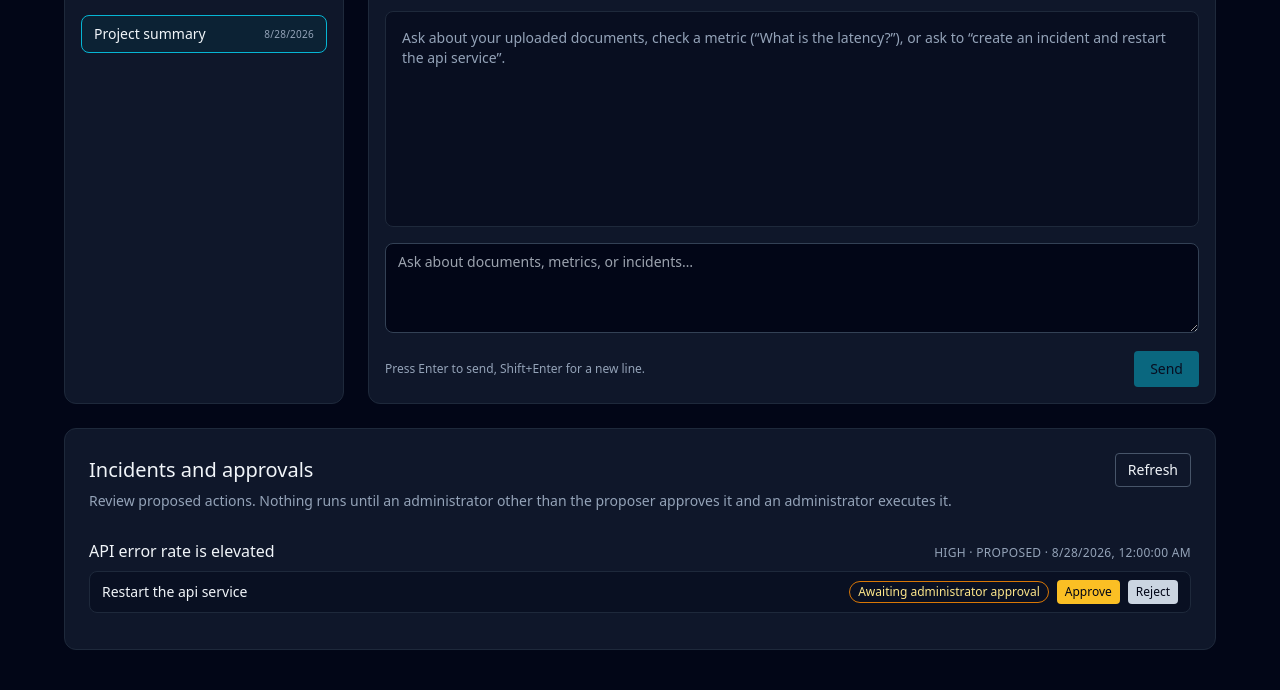
Test: HomePage › lets an administrator approve and execute another user's proposal
The image size is (1280, 690).
(page scrolled)
expect the text "Awaiting administrator approval" is shown: met, box [849, 581, 1049, 603]
Click the button "Approve": (1088, 592) [1057, 580, 1120, 604]
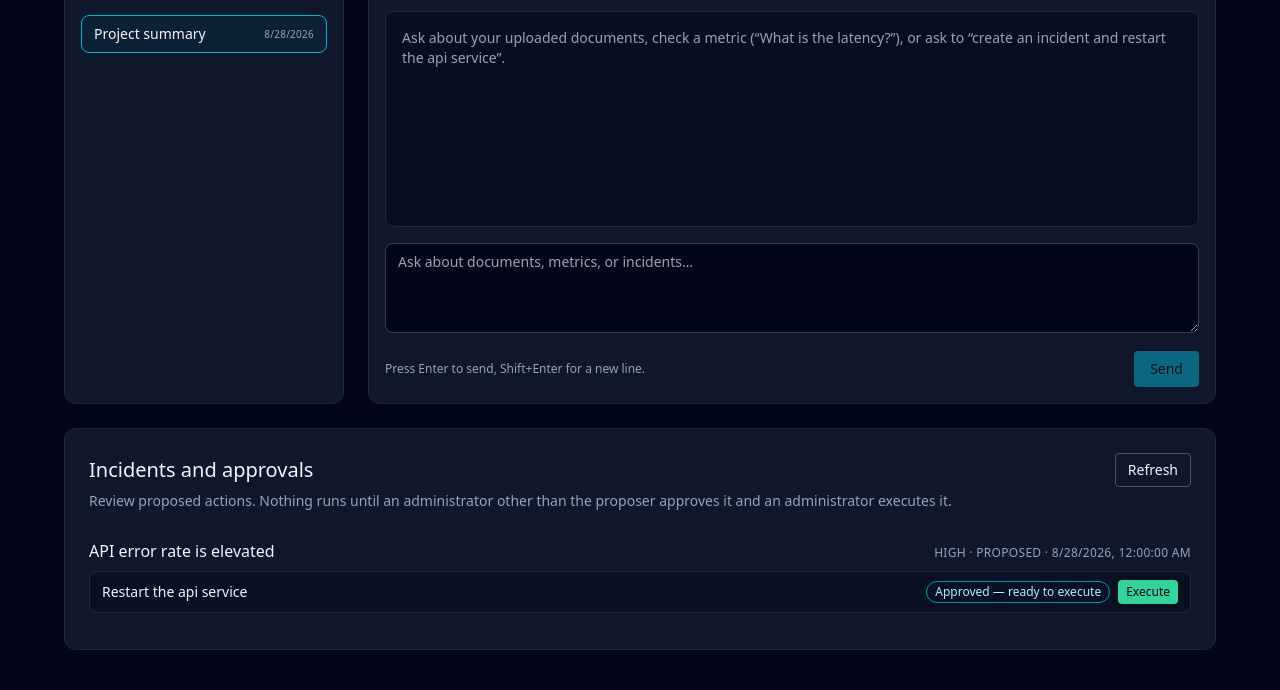
expect the text "Approved — ready to execute" is shown: met, box [926, 581, 1110, 603]
Click the button "Execute": (1148, 592) [1118, 580, 1178, 604]
(page scrolled)
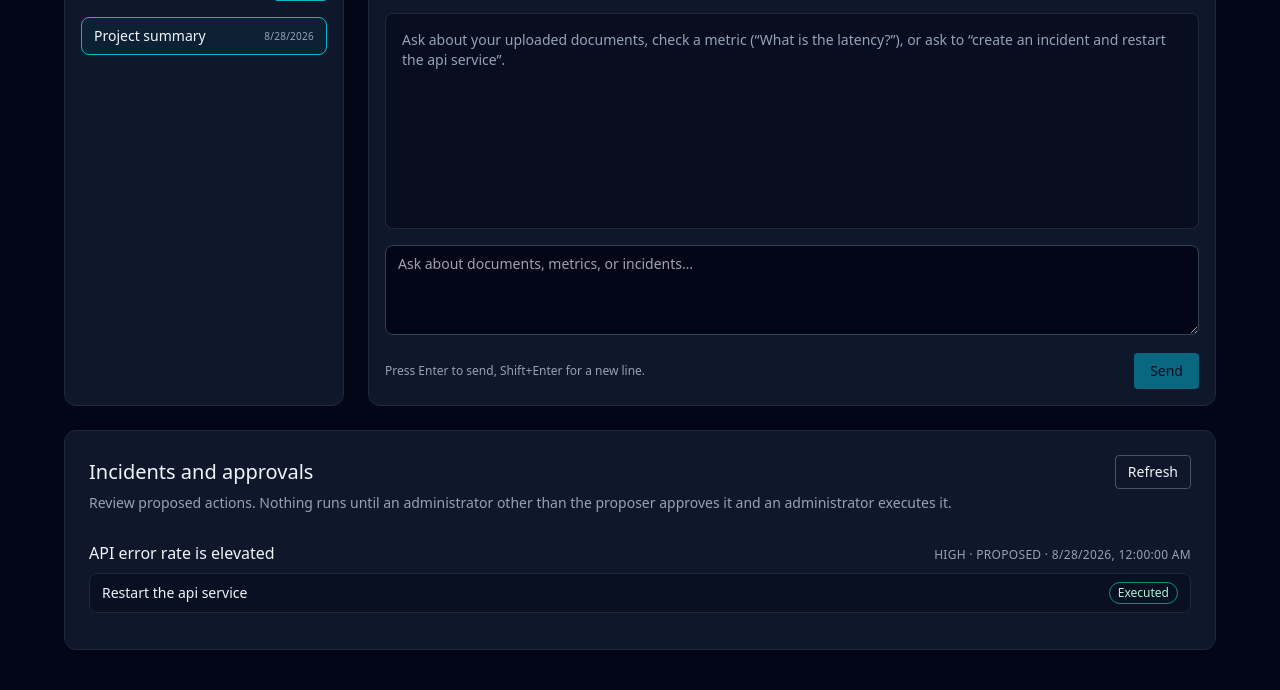
expect the button "Approve" is not shown: met
expect the text "Executed" is shown: met, box [1109, 582, 1178, 604]
